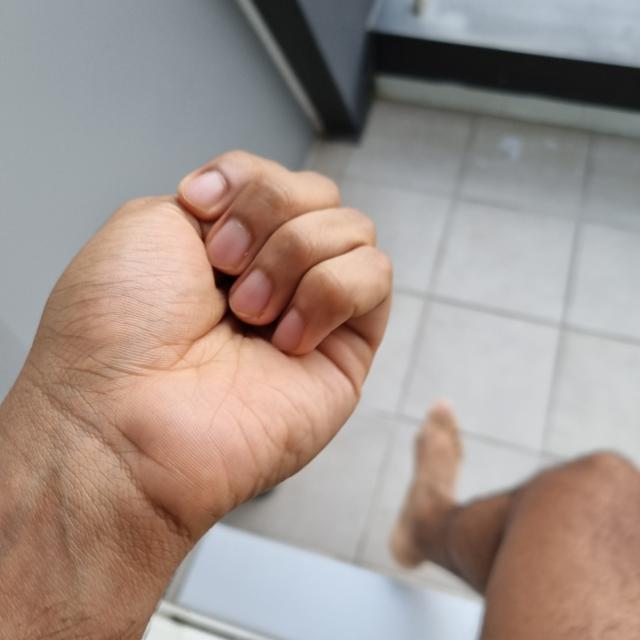Rock: (1, 150, 640, 638)
